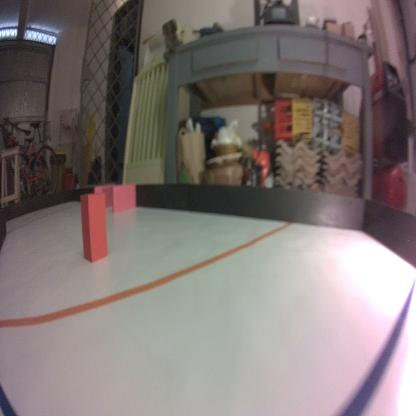magenta: (111, 183, 137, 215)
red: (80, 191, 108, 266)
